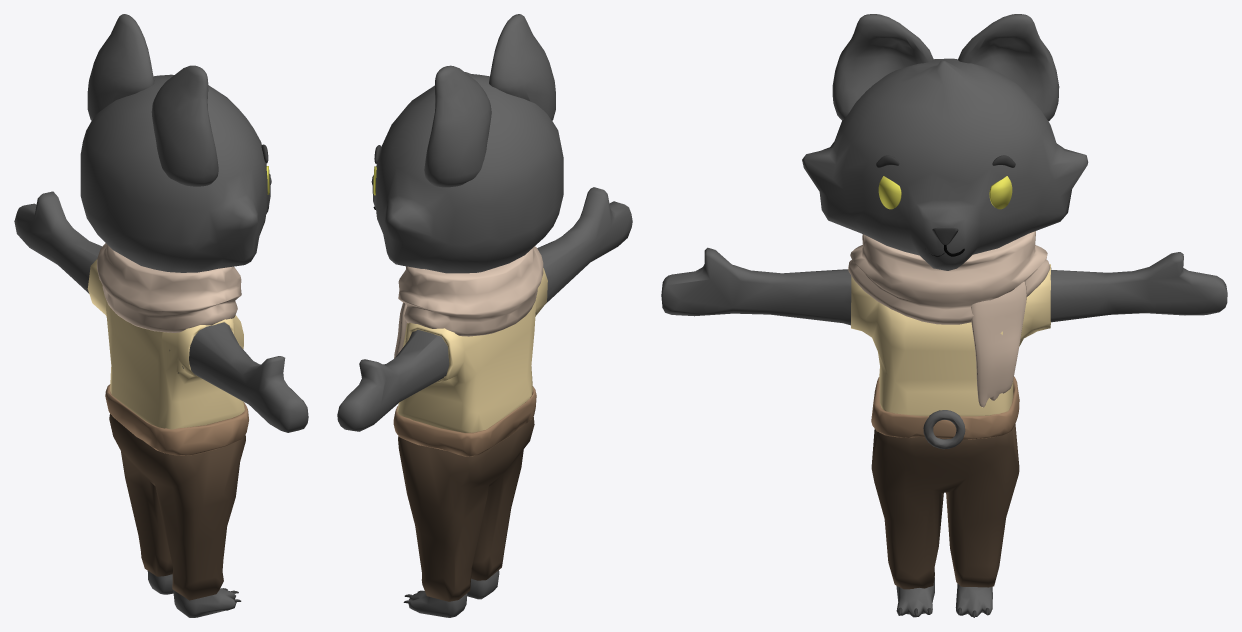
File: Kolbein_3.fbx
3 renders of one model, left to right at view 1: azimuth 30°, elevation 25°; view 2: azimuth 150°, elevation 25°; view 3: azimuth 270°, elevation 25°, orthographic. The views are drawn at different scales.
Visible parts, largest first — view 1: Cabeza, pantalones, cuerpo, camiseta, bufanda copia, oreja der.001, oreja der, Torus.002; view 2: Cabeza, pantalones, cuerpo, camiseta, bufanda copia, oreja der, oreja der.001, Torus.002; view 3: Cabeza, cuerpo, pantalones, camiseta, bufanda copia, oreja der, oreja der.001, Cube, Torus.002, Torus.003.
Part boxes in pixels (box(x1,y1,x2,y2)): Cabeza: box(80, 74, 270, 272); pantalones: box(109, 414, 245, 600); cuerpo: box(14, 191, 308, 617); camiseta: box(87, 259, 244, 429); bufanda copia: box(97, 243, 241, 332); oreja der.001: box(151, 65, 218, 186); oreja der: box(87, 14, 154, 120); Torus.002: box(105, 384, 248, 455); Cabeza: box(372, 72, 563, 273); pantalones: box(398, 417, 534, 601); cuerpo: box(337, 187, 632, 617); camiseta: box(397, 268, 547, 432); bufanda copia: box(398, 246, 543, 336); oreja der: box(424, 65, 491, 187); oreja der.001: box(489, 14, 555, 120); Torus.002: box(393, 386, 536, 456); Cabeza: box(802, 58, 1088, 270); cuerpo: box(661, 247, 1227, 617); pantalones: box(871, 424, 1019, 589); camiseta: box(851, 264, 1051, 416); bufanda copia: box(848, 231, 1050, 324); oreja der: box(958, 14, 1059, 121); oreja der.001: box(832, 14, 933, 120); Cube: box(971, 281, 1026, 407); Torus.002: box(871, 376, 1019, 439); Torus.003: box(923, 410, 965, 449).
Size of the model in its own units: 172 by 548 by 484.
